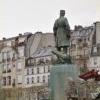Statue: (49, 7, 75, 76)
